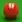red: (0, 0, 22, 22)
